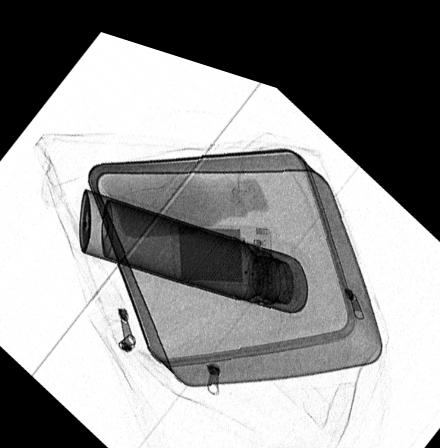Powerbank: (170, 209, 273, 270)
